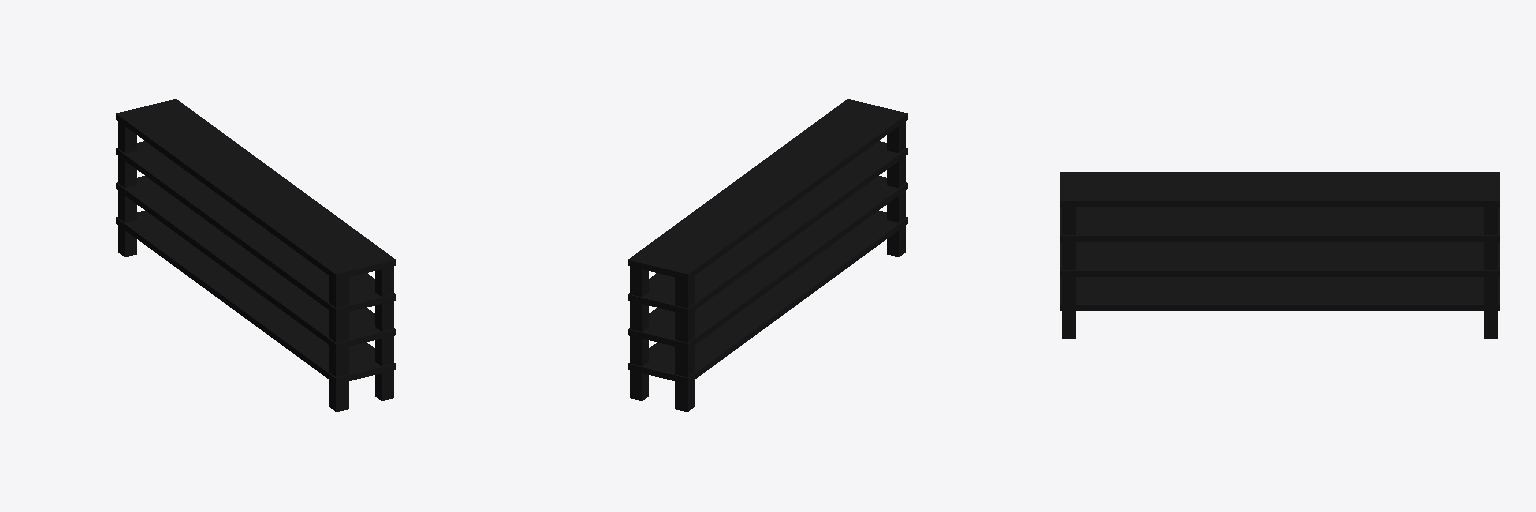
Rendered from shelves.obj.
The picture shows the model from 3 angles: view 1: azimuth 30°, elevation 25°; view 2: azimuth 150°, elevation 25°; view 3: azimuth 270°, elevation 25°; orthographic projection.
Visible parts, largest first — view 1: Cube; view 2: Cube; view 3: Cube.
Boxes of the visible parts, x1=… form: Cube: x1=116, y1=99, x2=395, y2=411; Cube: x1=628, y1=99, x2=907, y2=411; Cube: x1=1060, y1=172, x2=1499, y2=338.
Bounding box in the file's own units: 4 × 8.76 × 25.18.